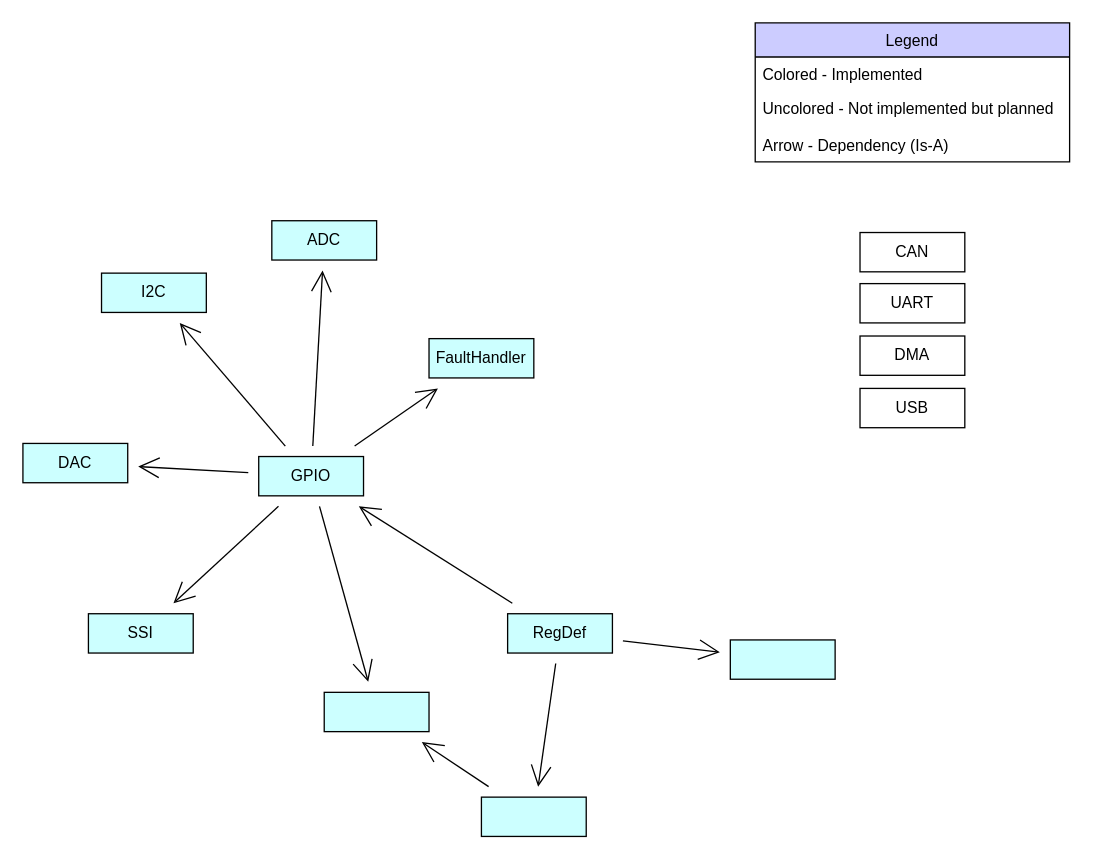
Image size: 1093x859. Some labels were removed from this diagram. Each missing label, with the centre of its shape:
PLL: [782,659]
PWM: [376,711]
Timer: [533,816]
